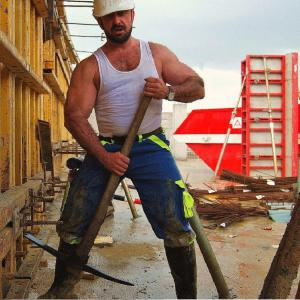white: (91, 2, 141, 46)
